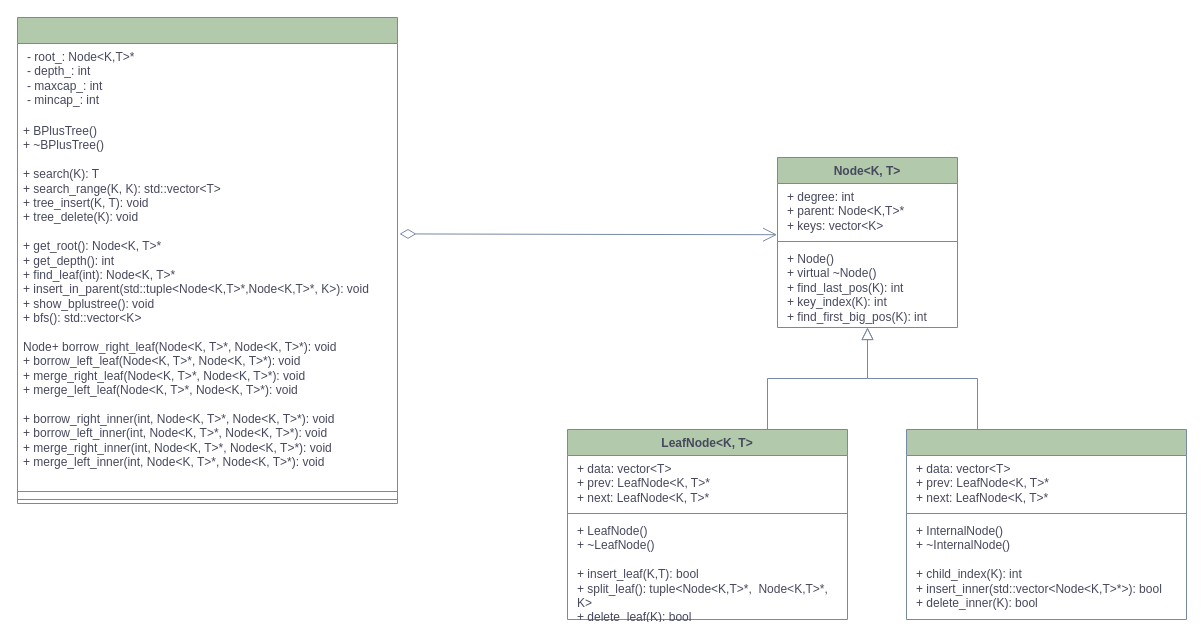
The diagram is 1204 pixels wide and 641 high, and some of its shapes have lost their labels. The shapes that lost their labels are listed below. From the top down, each one's box as (x1, y1, x2, y2) in pixels, then its label:
(16, 16, 398, 504): BPlusTree<K, T>
(906, 428, 1186, 620): InternalNode <K, T>
